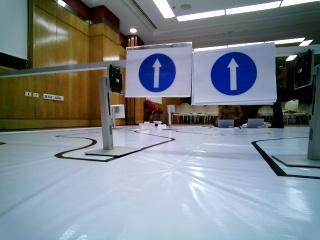straight: (194, 48, 274, 101), (129, 46, 191, 96)
